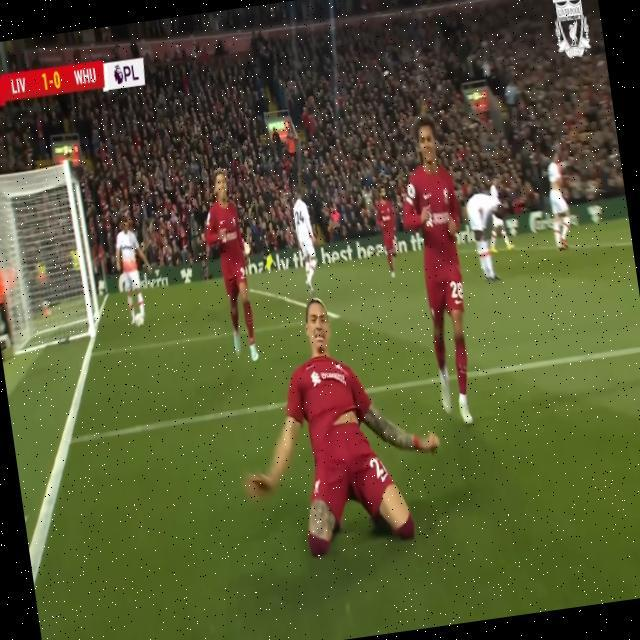Nike: (423, 191, 432, 201), (381, 472, 390, 482), (220, 219, 226, 225)
Standard Chartered: (310, 367, 347, 390)
